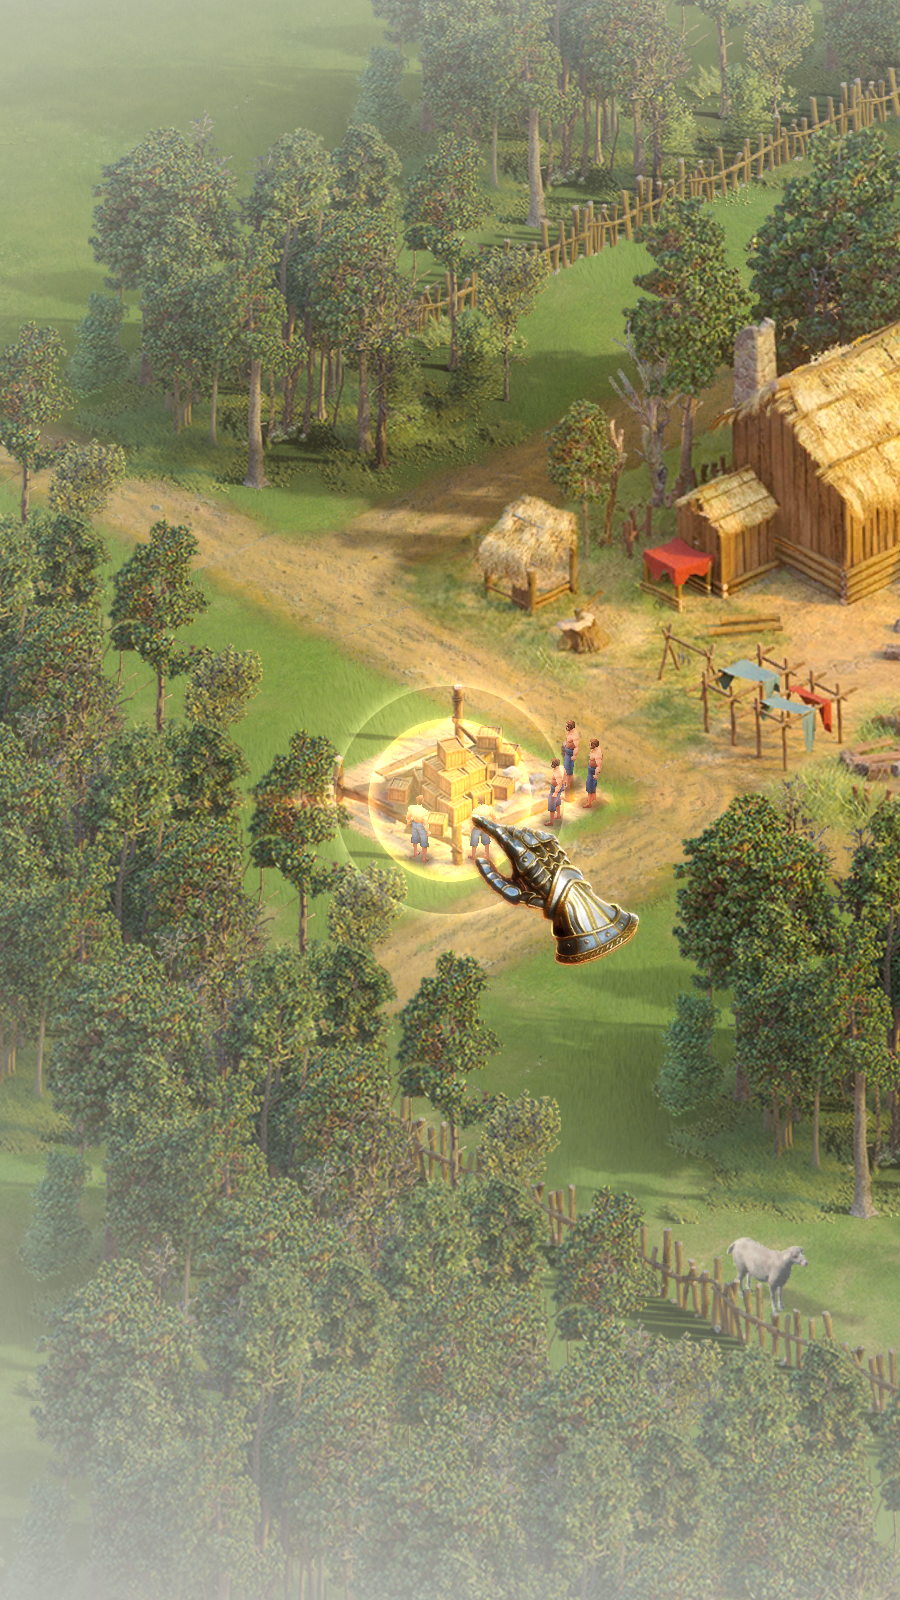hand: (462, 814, 643, 975)
